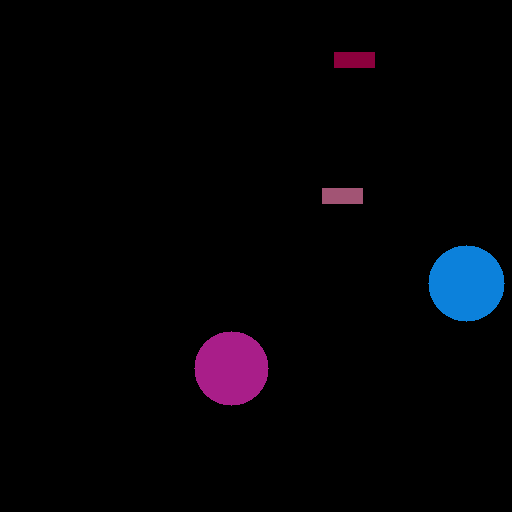circle: (428, 243, 505, 321), (194, 332, 267, 407)
side_rect: (323, 187, 369, 204), (329, 51, 375, 68)
